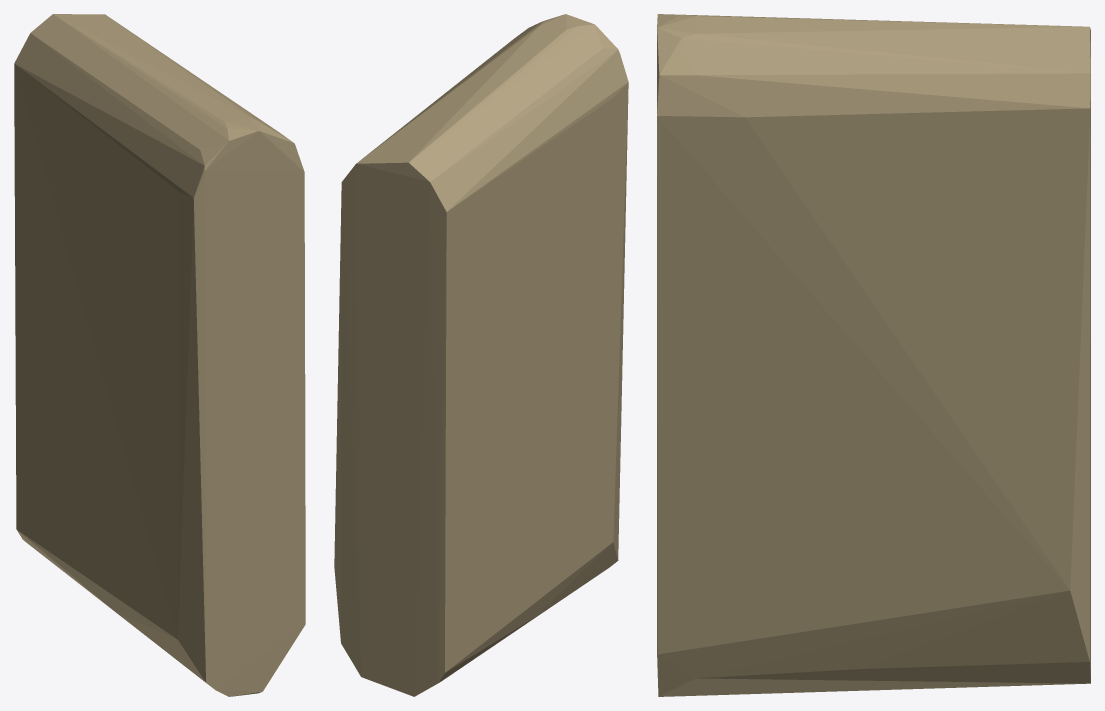
Rendered from dispenser_a01.glb.
3 views of the same model, side by side, from view 1: azimuth 30°, elevation 25°; view 2: azimuth 150°, elevation 25°; view 3: azimuth 270°, elevation 25° (orthographic). The views are drawn at different scales.
Visible parts, largest first — view 1: geometry_0; view 2: geometry_0; view 3: geometry_0.
Boxes of the visible parts, bbox=[...] form: geometry_0: bbox=[14, 14, 305, 696]; geometry_0: bbox=[334, 14, 628, 696]; geometry_0: bbox=[657, 14, 1090, 696].
Size of the model in its own units: 0.1102 by 0.4793 by 0.2813.
